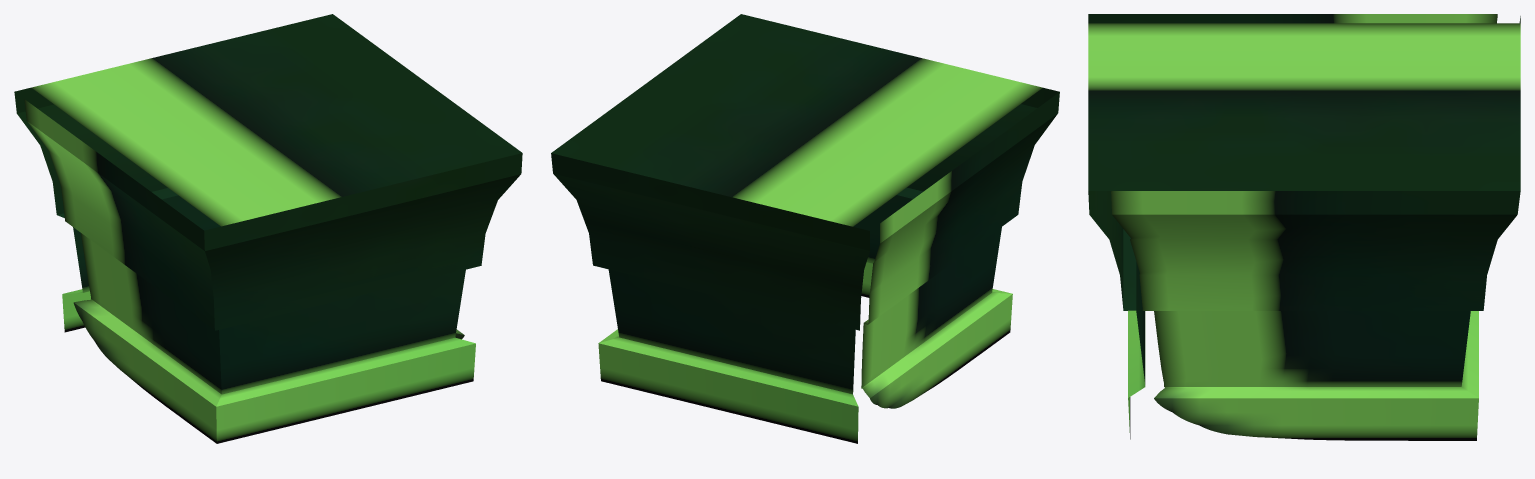
Rendered from sn_shengdi_basepost_001.FBX.
3 views of the same model, side by side, from view 1: azimuth 30°, elevation 25°; view 2: azimuth 150°, elevation 25°; view 3: azimuth 270°, elevation 25° (orthographic). The views are drawn at different scales.
Visible parts, largest first — view 1: sn_shengdi_basepost_001; view 2: sn_shengdi_basepost_001; view 3: sn_shengdi_basepost_001.
Boxes of the visible parts, x1,y1,x2,y2 form: sn_shengdi_basepost_001: (14, 14, 522, 443); sn_shengdi_basepost_001: (551, 14, 1059, 443); sn_shengdi_basepost_001: (1088, 14, 1520, 440).
Size of the model in its own units: 178 by 184 by 137.
